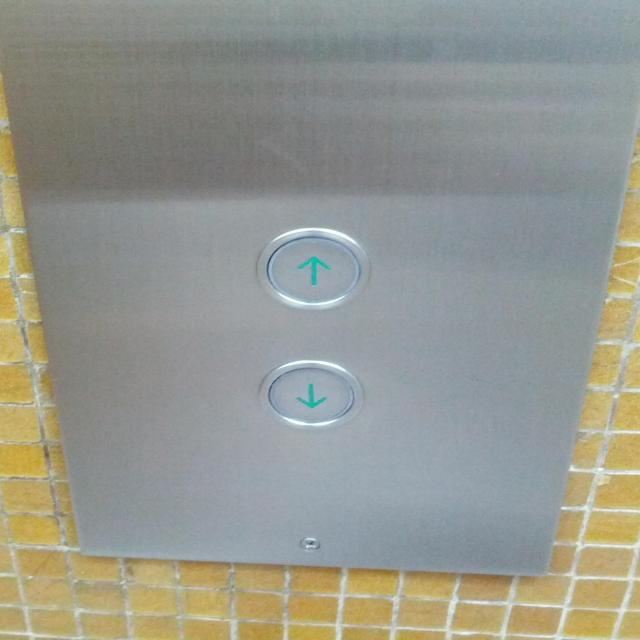down: (254, 356, 366, 433)
up: (252, 223, 372, 315)
